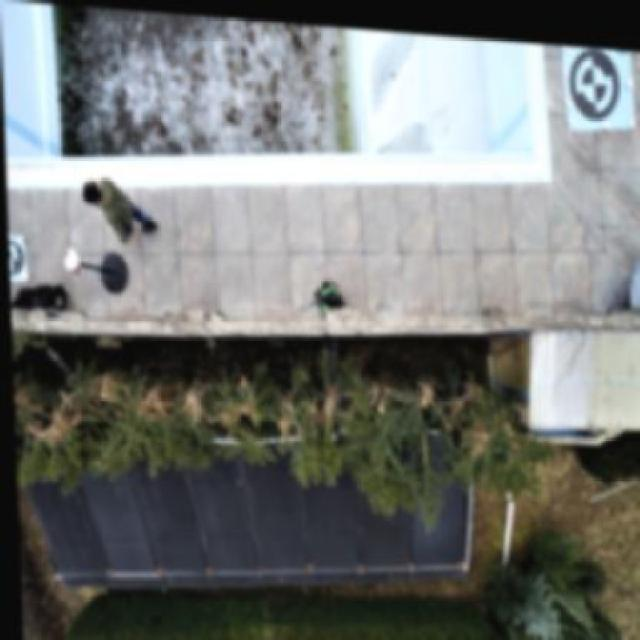Person: (69, 165, 160, 247)
